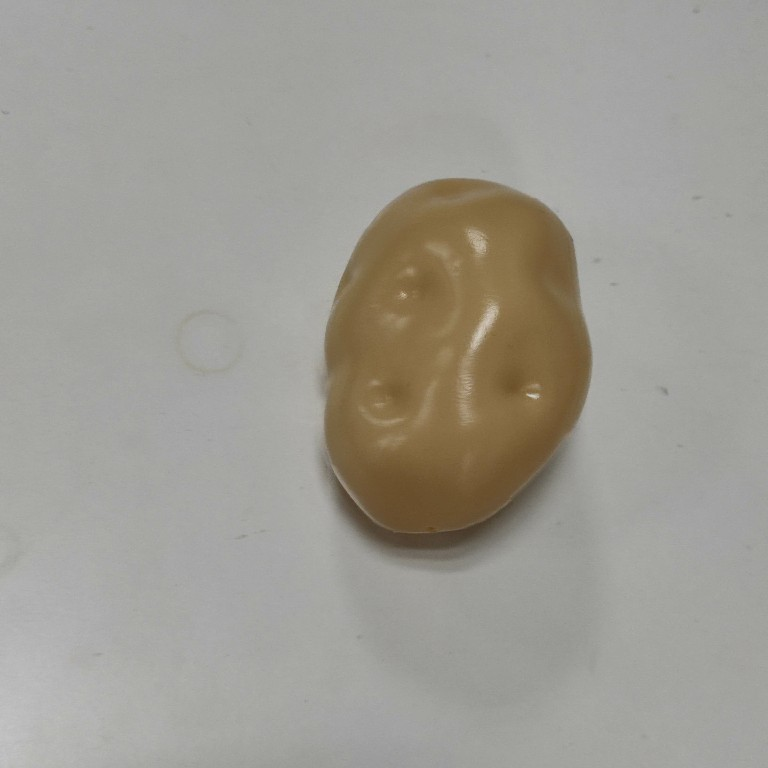fruit_potato: (314, 173, 598, 543)
